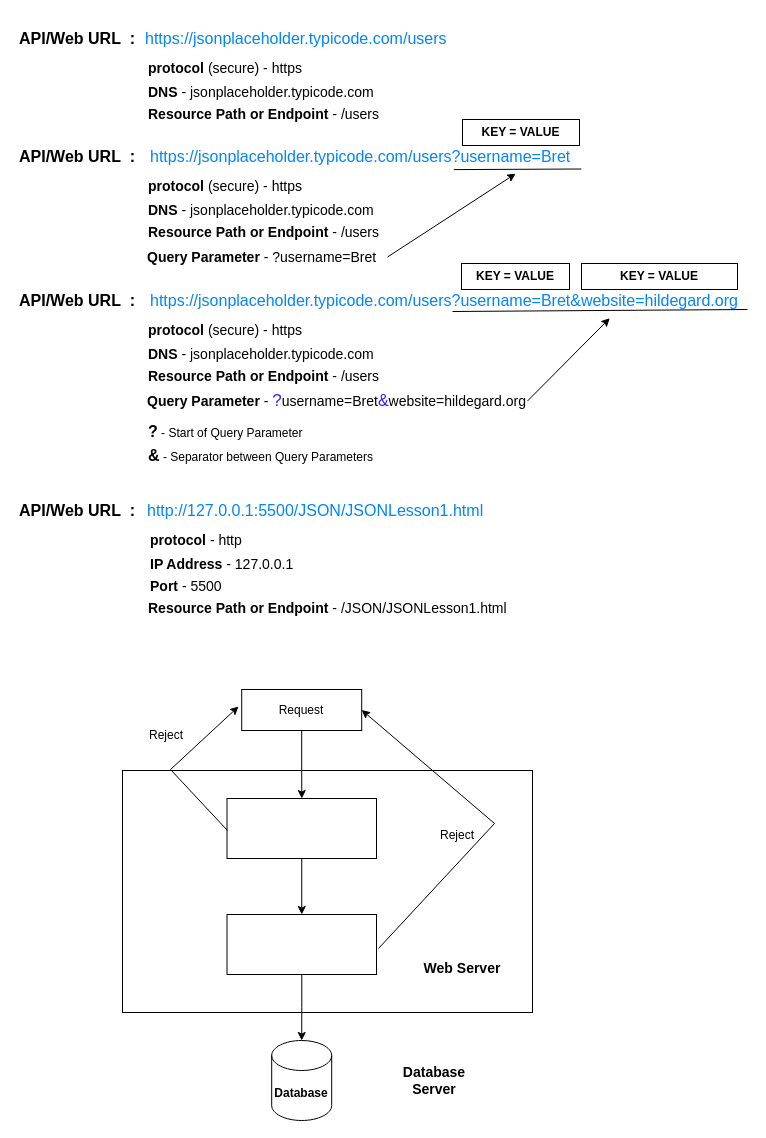
This 766x1138 diagram has some shape labels left out. The shapes that lost their labels are listed below. From the top down, each one's centre as x and y in pixels, then its label:
At [301,828]: "Authentication".
At [301,944]: "Authorization".
